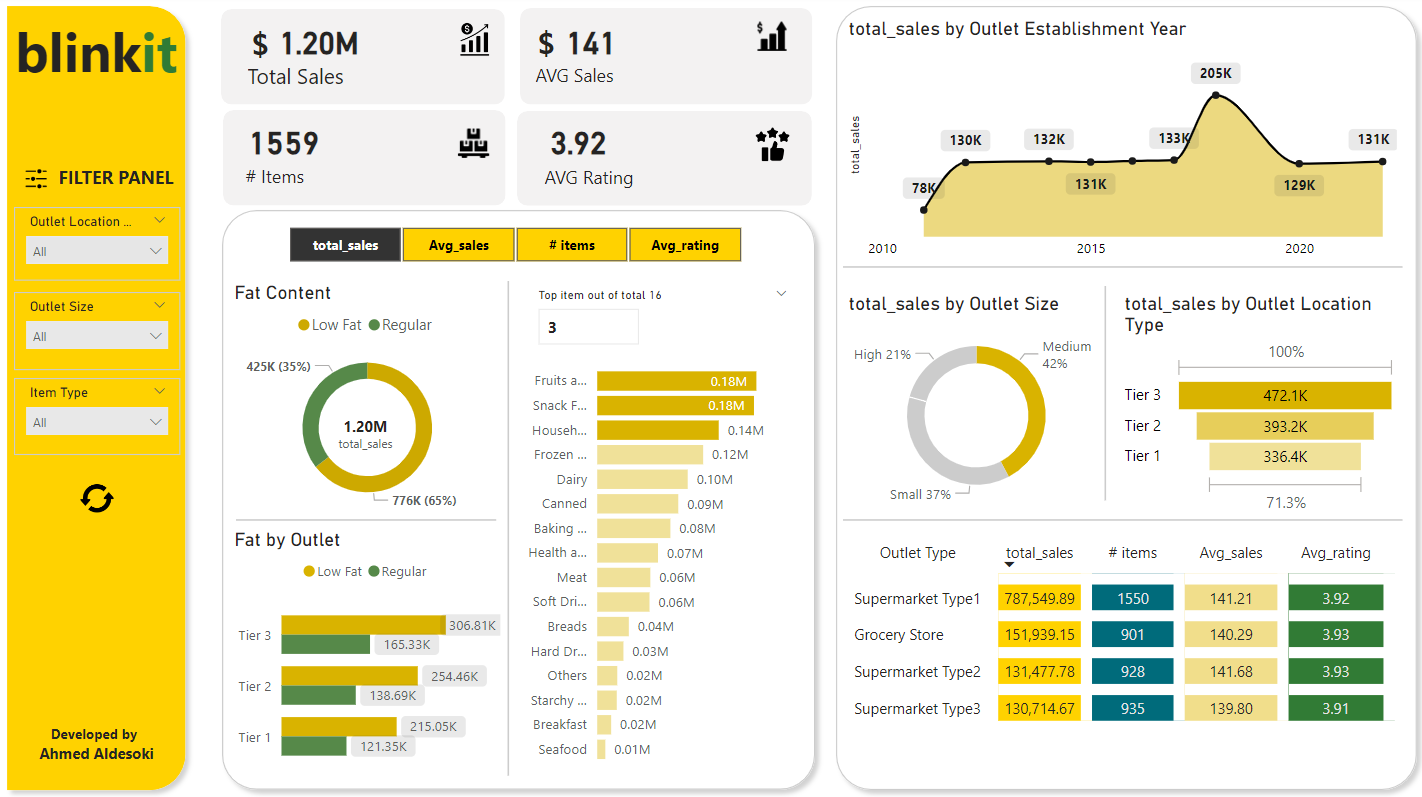

Layout of this report page (visuals, bound fields, positions):
{"tool":"powerbi","page":{"name":"blinkit dashboard","canvas":[1280,720],"ordinal":0},"visuals":[{"type":"shape","box":[0,0,177.9,720.2],"z":0},{"type":"shape","box":[468.2,10.9,261.8,86.5],"z":0,"group":"g8"},{"type":"textbox","box":[0,11,177.9,88.4],"z":0,"group":"g3"},{"type":"group","id":"g1","title":"Group 8","box":[198.9,11.9,256.6,91.5],"z":0,"group":"g5"},{"type":"shape","box":[201,11.9,254.5,85.5],"z":0,"group":"g1"},{"type":"card","fields":{"Values":["Table.Avg_sales"]},"box":[455.5,14.2,151.9,51.7],"z":0,"group":"g2"},{"type":"shape","box":[202.3,102.4,253.2,85.6],"z":0,"group":"g6"},{"type":"shape","box":[465.9,103,264.1,84.8],"z":0,"group":"g7"},{"type":"textbox","box":[49.6,145.7,141.9,35],"z":0,"group":"g4"},{"type":"donutChart","title":"Fat Content","fields":{"Y":["Table.total_sales"],"Category":["data_blinkit.Item Fat Content"]},"box":[207.7,255.6,247.6,214.7],"z":0,"group":"g9"},{"type":"group","id":"g2","title":"Group 5","box":[455.5,14.2,264.5,83.2],"z":1000,"group":"g8"},{"type":"textbox","box":[219.9,54.3,162.9,49.1],"z":1000,"group":"g1"},{"type":"textbox","box":[477,54.7,167.1,42.7],"z":1000,"group":"g2"},{"type":"image","box":[20.4,143.8,29.2,38.9],"z":1000,"group":"g4"},{"type":"textbox","box":[217.9,145.7,157.7,48.9],"z":1000,"group":"g6"},{"type":"textbox","box":[485.7,145.9,161.6,49],"z":1000,"group":"g7"},{"type":"clusteredBarChart","fields":{"Y":["Table.total_sales"],"Category":["data_blinkit.Item Type"]},"box":[458,315,263,383],"z":1000,"group":"g9"},{"type":"textbox","box":[8,643,162,55],"z":1000},{"type":"card","fields":{"Values":["Table.total_sales"]},"box":[198.9,11.9,179,58],"z":2000,"group":"g1"},{"type":"image","box":[668,17,52,38],"z":2000,"group":"g2"},{"type":"card","fields":{"Values":["Table.# items"]},"box":[170.1,102.4,173.2,56.7],"z":2000,"group":"g6"},{"type":"card","fields":{"Values":["Table.Avg_rating"]},"box":[457.5,102.4,126.1,56.8],"z":2000,"group":"g7"},{"type":"shape","box":[192.9,183,549,537.1],"z":2000},{"type":"clusteredBarChart","title":"Fat by Outlet","fields":{"Y":["Table.total_sales"],"Category":["data_blinkit.Outlet Location Type"],"Series":["data_blinkit.Item Fat Content"]},"box":[208,477,248,229],"z":2000,"group":"g9"},{"type":"shape","box":[741.9,0,538.1,720.1],"z":3000},{"type":"textbox","box":[478.5,17.7,43.6,61.6],"z":3000,"group":"g2"},{"type":"image","box":[405,19,45,40],"z":3000,"group":"g1"},{"type":"image","box":[405,113,43,38],"z":3000,"group":"g6"},{"type":"image","box":[672,113,44,40],"z":3000,"group":"g7"},{"type":"textbox","box":[223.2,18.7,41.3,61.1],"z":4000,"group":"g1"},{"type":"areaChart","fields":{"Category":["data_blinkit.Outlet Establishment Year"],"Y":["Table.total_sales"]},"box":[757.9,18.9,501.3,225.8],"z":4000},{"type":"donutChart","fields":{"Category":["data_blinkit.Outlet Size"],"Y":["Table.total_sales"]},"box":[758,265,239,202],"z":5000},{"type":"funnel","fields":{"Category":["data_blinkit.Outlet Location Type"],"Y":["Table.total_sales"]},"box":[1005,265,254,202],"z":6000},{"type":"pivotTable","fields":{"Rows":["data_blinkit.Outlet Type"],"Values":["Table.total_sales","Table.# items","Table.Avg_sales","Table.Avg_rating"]},"box":[757.6,471,501.5,199.7],"z":7000},{"type":"slicer","fields":{"Values":["data_blinkit.Outlet Location Type"]},"box":[15,188.6,149.3,65.7],"z":8000},{"type":"slicer","fields":{"Values":["data_blinkit.Outlet Size"]},"box":[15,265,149.3,70],"z":9000},{"type":"slicer","fields":{"Values":["data_blinkit.Item Type"]},"box":[15,342.1,149.3,69.3],"z":10000},{"type":"group","id":"g3","title":"Group 1","box":[0,11,177.9,88.4],"z":11000},{"type":"group","id":"g4","title":"Group 2","box":[20.4,143.8,171.1,38.9],"z":12000},{"type":"group","id":"g5","title":"Group 3","box":[198.9,11.9,256.6,91.5],"z":13000},{"type":"group","id":"g6","title":"Group 4","box":[170.1,102.4,285.4,92.2],"z":14000},{"type":"group","id":"g7","title":"Group 6","box":[457.5,102.4,272.5,92.5],"z":15000},{"type":"group","id":"g8","title":"Group 7","box":[455.5,10.9,274.5,86.5],"z":16000},{"type":"group","id":"g9","title":"total sales charts","box":[207.7,255.6,513.3,450.4],"z":17000},{"type":"slicer","fields":{"Values":["Matrices.Matrices"]},"box":[236.4,200.9,453.6,43.6],"z":21000},{"type":"cardVisual","fields":{"Data":["Table.total_sales"]},"box":[288,359,83,61],"z":22000},{"type":"shape","box":[758,230,501,25],"z":23000},{"type":"shape","box":[758,457,501,25],"z":24000},{"type":"shape","box":[977,260,31,192],"z":25000},{"type":"shape","box":[442,255,31,443],"z":26000},{"type":"shape","box":[214,457,233,25],"z":27000},{"type":"image","box":[64,430,51,40],"z":28000},{"type":"slicer","fields":{"Values":["Rank item type.Rank item type"]},"box":[472,256,248,59],"z":29000}]}

Visuals, with their boxes in screenshot pixels (x1, y1, x2, y2), scaled from the page's 1280x720 canvas onto the 1422x797 screenshot:
shape: left=0, top=0, right=198, bottom=796
shape: left=520, top=12, right=811, bottom=108
textbox: left=0, top=12, right=198, bottom=110
"Group 8" group: left=221, top=13, right=506, bottom=114
shape: left=223, top=13, right=506, bottom=108
card - Table.Avg_sales: left=506, top=16, right=675, bottom=73
shape: left=225, top=113, right=506, bottom=208
shape: left=518, top=114, right=811, bottom=208
textbox: left=55, top=161, right=213, bottom=200
"Fat Content" donutChart: left=231, top=283, right=506, bottom=521
"Group 5" group: left=506, top=16, right=800, bottom=108
textbox: left=244, top=60, right=425, bottom=114
textbox: left=530, top=61, right=716, bottom=108
image: left=23, top=159, right=55, bottom=202
textbox: left=242, top=161, right=417, bottom=215
textbox: left=540, top=162, right=719, bottom=216
clusteredBarChart - Table.total_sales x data_blinkit.Item Type: left=509, top=349, right=801, bottom=773
textbox: left=9, top=712, right=189, bottom=773
card - Table.total_sales: left=221, top=13, right=420, bottom=77
image: left=742, top=19, right=800, bottom=61
card - Table.# items: left=189, top=113, right=381, bottom=176
card - Table.Avg_rating: left=508, top=113, right=648, bottom=176
shape: left=214, top=203, right=824, bottom=796
"Fat by Outlet" clusteredBarChart: left=231, top=528, right=507, bottom=782
shape: left=824, top=0, right=1421, bottom=796
textbox: left=532, top=20, right=580, bottom=88
image: left=450, top=21, right=500, bottom=65
image: left=450, top=125, right=498, bottom=167
image: left=747, top=125, right=795, bottom=169
textbox: left=248, top=21, right=294, bottom=88
areaChart - data_blinkit.Outlet Establishment Year x Table.total_sales: left=842, top=21, right=1399, bottom=271
donutChart - data_blinkit.Outlet Size x Table.total_sales: left=842, top=293, right=1108, bottom=517
funnel - data_blinkit.Outlet Location Type x Table.total_sales: left=1116, top=293, right=1399, bottom=517
pivotTable - data_blinkit.Outlet Type x Table.total_sales: left=842, top=521, right=1399, bottom=742
slicer - data_blinkit.Outlet Location Type: left=17, top=209, right=183, bottom=281
slicer - data_blinkit.Outlet Size: left=17, top=293, right=183, bottom=371
slicer - data_blinkit.Item Type: left=17, top=379, right=183, bottom=455
"Group 1" group: left=0, top=12, right=198, bottom=110
"Group 2" group: left=23, top=159, right=213, bottom=202
"Group 3" group: left=221, top=13, right=506, bottom=114
"Group 4" group: left=189, top=113, right=506, bottom=215
"Group 6" group: left=508, top=113, right=811, bottom=216
"Group 7" group: left=506, top=12, right=811, bottom=108
"total sales charts" group: left=231, top=283, right=801, bottom=782
slicer - Matrices.Matrices: left=263, top=222, right=767, bottom=271
cardVisual - Table.total_sales: left=320, top=397, right=412, bottom=465
shape: left=842, top=255, right=1399, bottom=282
shape: left=842, top=506, right=1399, bottom=534
shape: left=1085, top=288, right=1120, bottom=500
shape: left=491, top=282, right=525, bottom=773
shape: left=238, top=506, right=497, bottom=534
image: left=71, top=476, right=128, bottom=520
slicer - Rank item type.Rank item type: left=524, top=283, right=800, bottom=349
